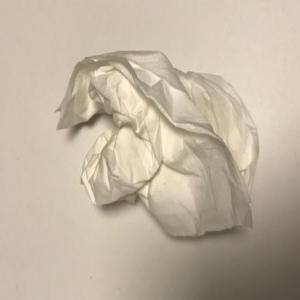Trash: (55, 50, 260, 239)
